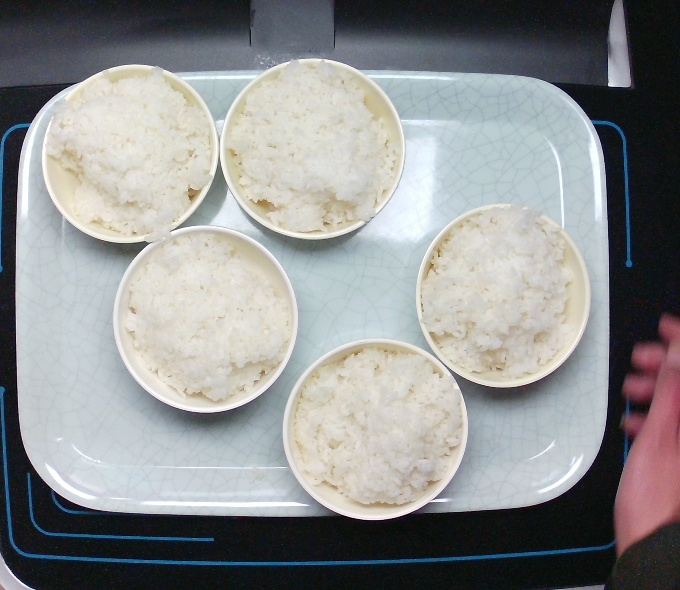wcq-MiFan: (221, 59, 393, 235), (415, 206, 584, 380), (292, 347, 458, 511), (121, 238, 287, 402), (42, 71, 208, 235)
